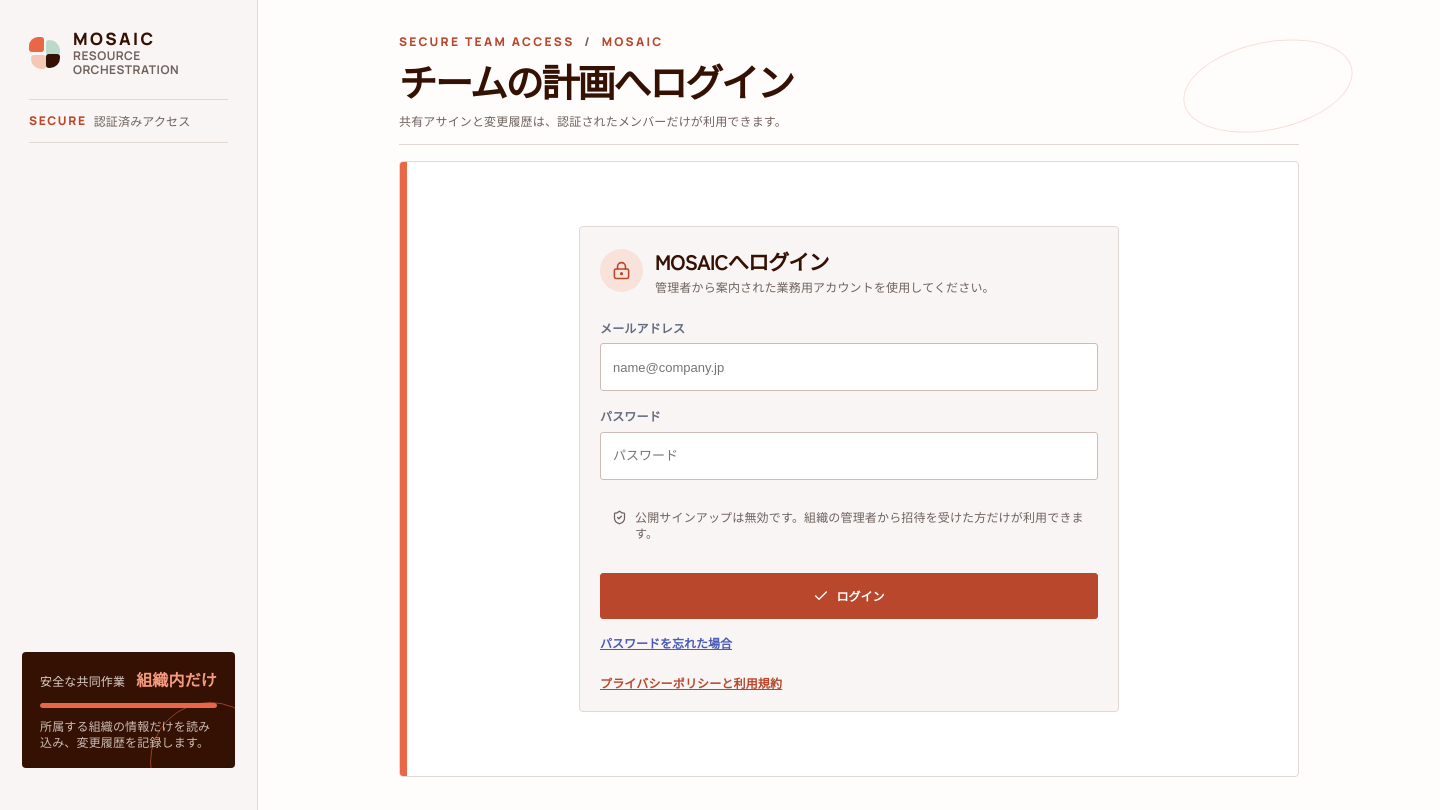
AuthScreen password recovery › returns to login from the reset request without cancelling a recovery session
The image size is (1440, 810).
What coordinates should you click on to do the following:
click the button "パスワードを忘れた場合"
I would click on:
 (666, 643)
Its box is [600, 623, 732, 663].
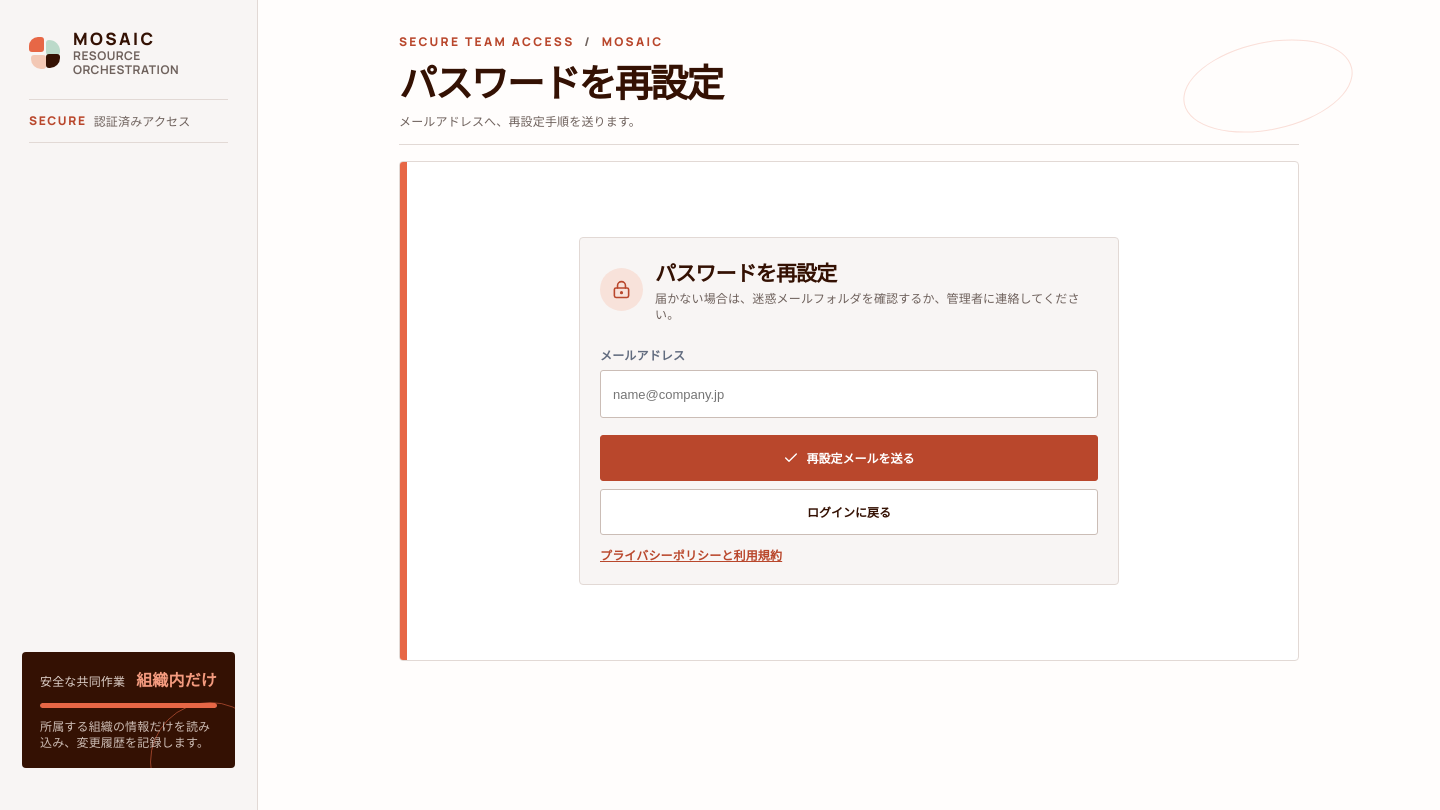
What coordinates should you click on to do the following:
click the button "ログインに戻る"
I would click on:
 (849, 512)
Its box is [600, 490, 1098, 536].
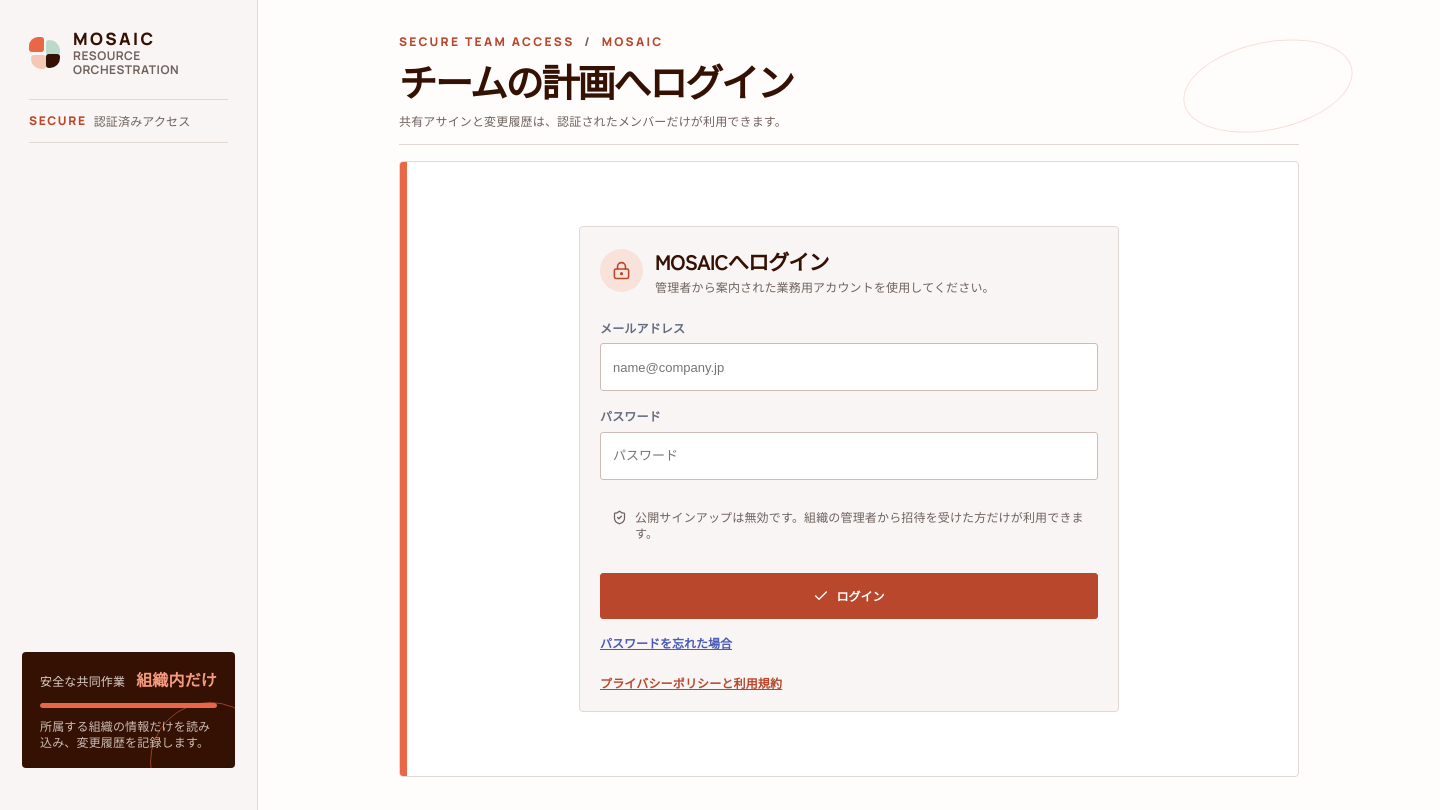
Expected: the button "ログイン" is shown, [600, 573, 1098, 619]
